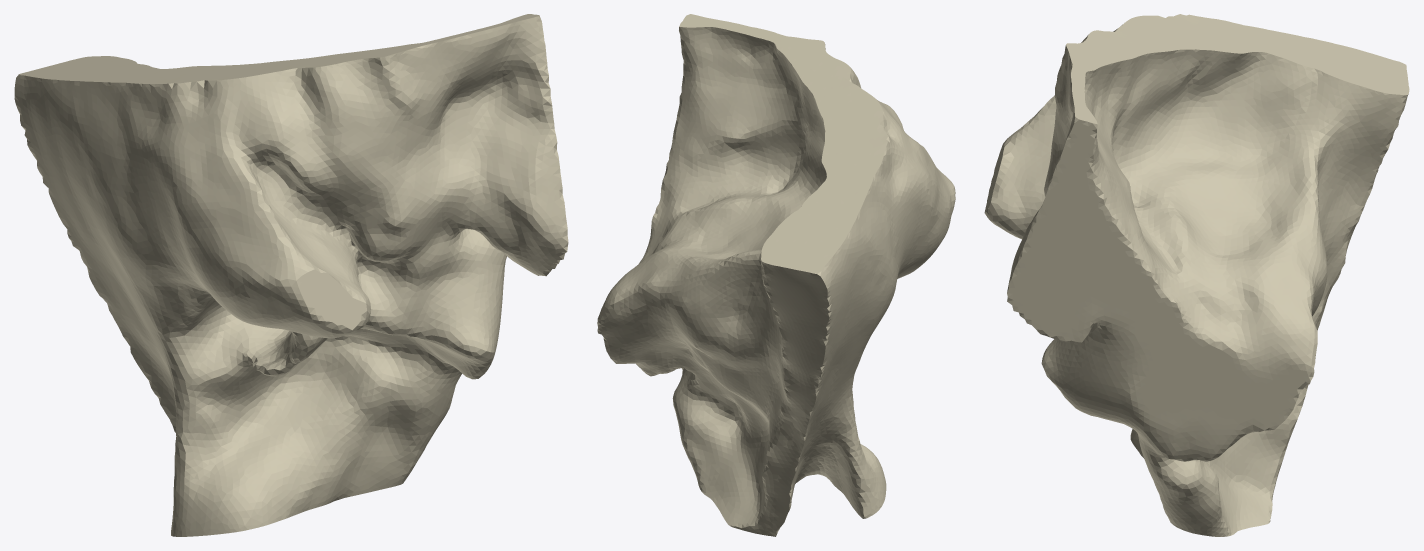
3 views of the same model, side by side, from view 1: azimuth 30°, elevation 25°; view 2: azimuth 150°, elevation 25°; view 3: azimuth 270°, elevation 25° (orthographic). The views are drawn at different scales.
Parts seen in each view (by area): view 1: Shape_IndexedFaceSet.007; view 2: Shape_IndexedFaceSet.007; view 3: Shape_IndexedFaceSet.007.
Part boxes in pixels (bbox=[...]): Shape_IndexedFaceSet.007: bbox=[14, 14, 568, 536]; Shape_IndexedFaceSet.007: bbox=[597, 14, 955, 536]; Shape_IndexedFaceSet.007: bbox=[984, 14, 1409, 536].
Bounding box in the file's own units: 4647 × 6633 × 5348.
